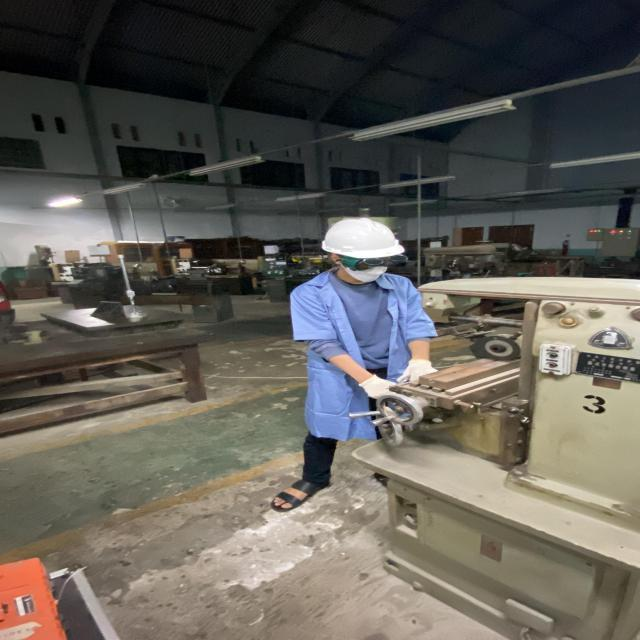glasses: (337, 252, 412, 272)
